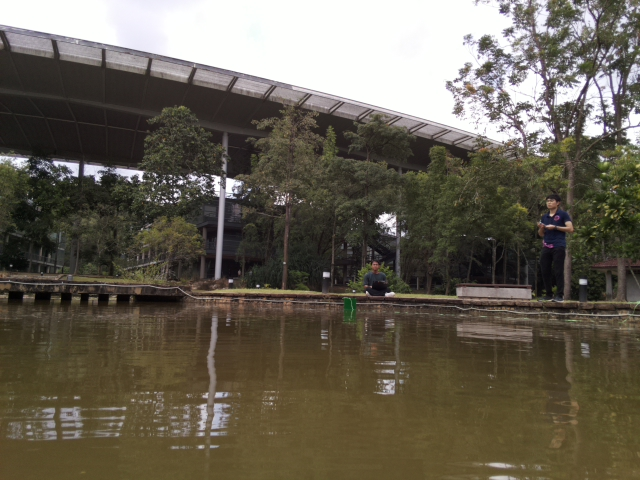obstacle: (343, 296, 357, 312)
